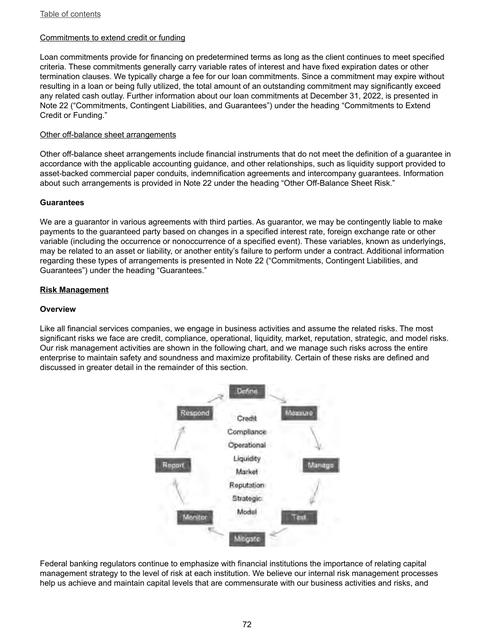box: (153, 383, 341, 548)
